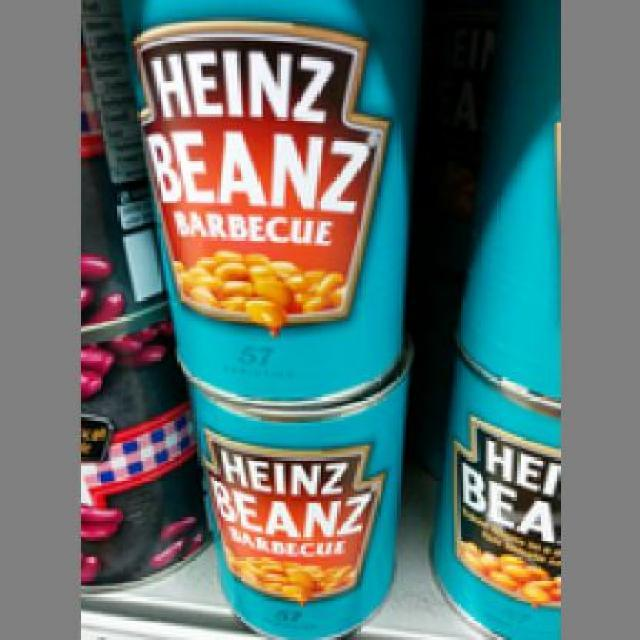Beans: (114, 0, 423, 397), (166, 377, 420, 637)
